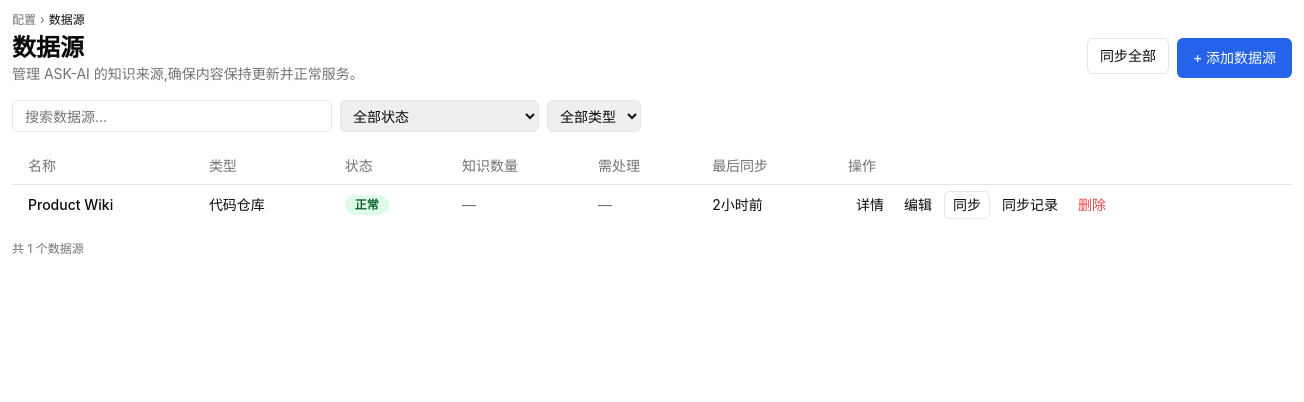
Test: #86 行级操作直显(ROW_ACTION_DISCOVERABILITY_DRIFT,Frozen Direction) › AC2:同步记录 直显为行级按钮;点击展开记录面板,再点收起(行为与既有菜单一致)
Click the button "同步记录". click: click(1030, 204)
box: [994, 190, 1066, 218]
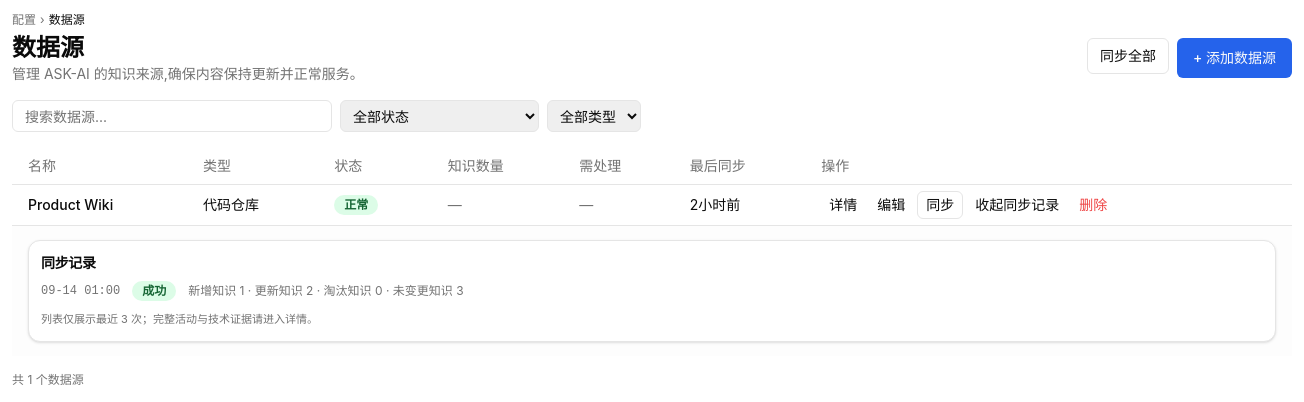
Now the text "新增知识 1 · 更新知识 2 · 淘汰知识 0 · 未变更知识 3" is shown, box [188, 282, 464, 298]
再点收起:面板消失,按钮回到 同步记录
Click the button "收起同步记录". click: click(1017, 204)
box: [967, 190, 1067, 218]
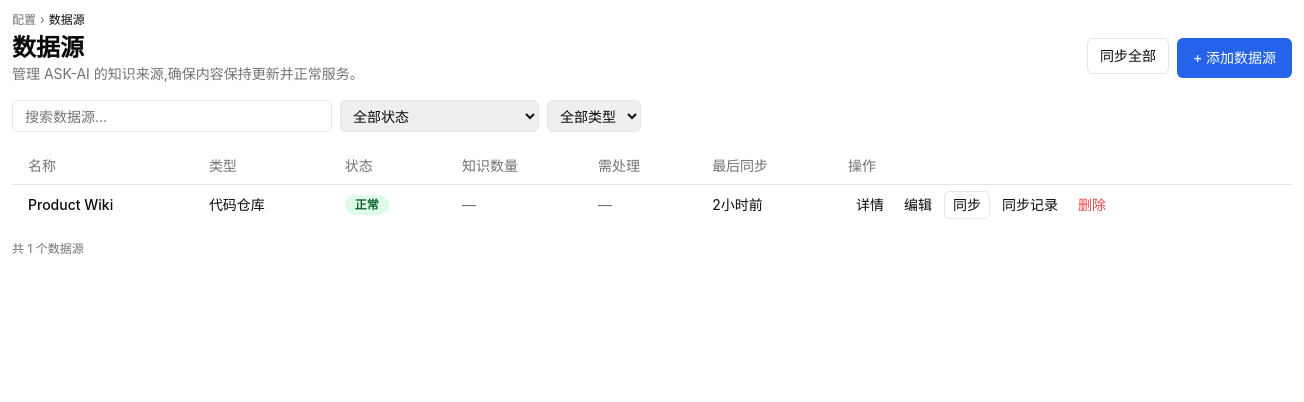
Expected: the button "同步记录" is shown, [994, 190, 1066, 218]
Now the text "新增知识 1" is gone
